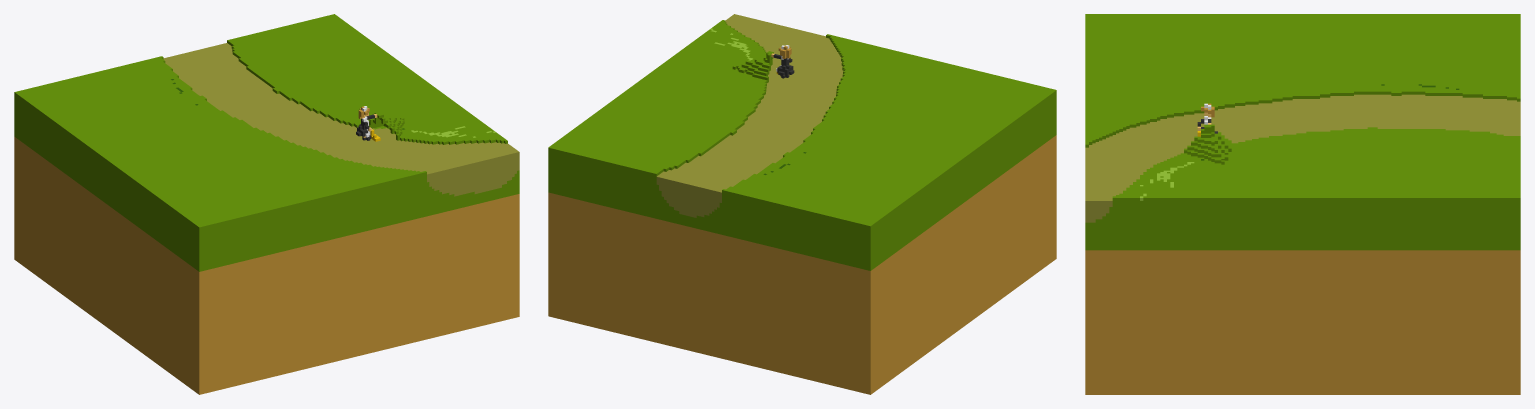
The picture shows the model from 3 angles, left to right: view 1: azimuth 30°, elevation 25°; view 2: azimuth 150°, elevation 25°; view 3: azimuth 270°, elevation 25°; orthographic projection. The views are drawn at different scales.
Parts seen in each view (by area): view 1: 6G; view 2: 6G; view 3: 6G.
Part boxes in pixels (x1,y1,x2,y2): 6G: (14, 14, 519, 394); 6G: (548, 14, 1056, 394); 6G: (1085, 14, 1520, 394).
Bounding box in the file's own units: 12.8 × 7.5 × 12.8.
1 material, 1 textured.
